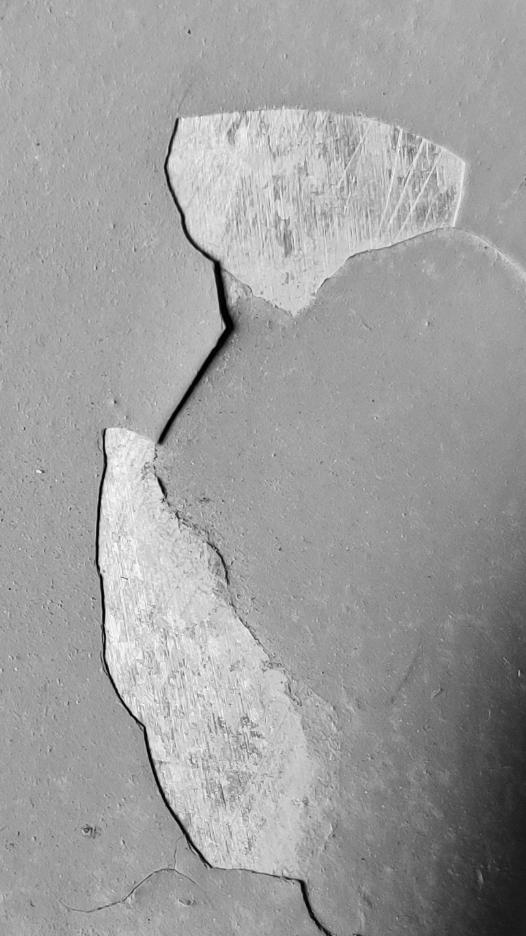paint-off: (1, 1, 526, 936)
